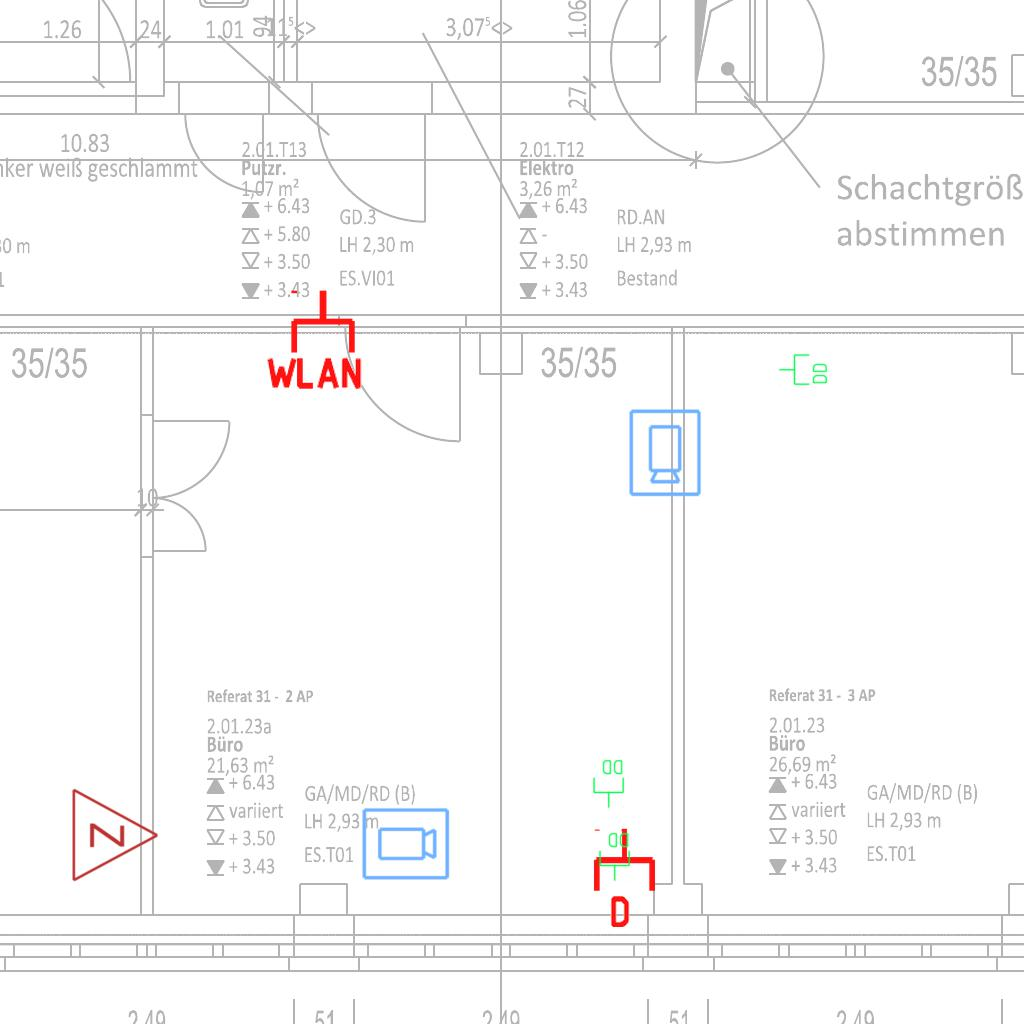Datenanschluss_einfach: (590, 827, 659, 927)
Datenanschluss_zweifach: (778, 353, 829, 387), (592, 758, 626, 809), (598, 831, 632, 882)
KFO_Kamera_mit_Festobjektiv: (626, 407, 703, 498), (360, 806, 451, 883)
WLAN: (262, 286, 366, 391)
Zimmersignalleuchte: (65, 785, 165, 883)
